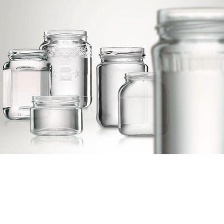bottle: (148, 3, 223, 153), (91, 41, 150, 130), (37, 24, 94, 109), (0, 44, 57, 121), (113, 66, 169, 138), (29, 94, 85, 137)
